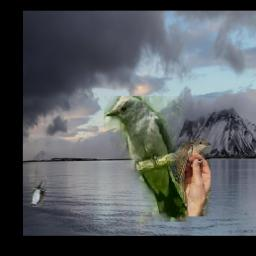Cuckoo: (104, 97, 187, 223), (173, 139, 212, 217), (29, 165, 46, 208)
